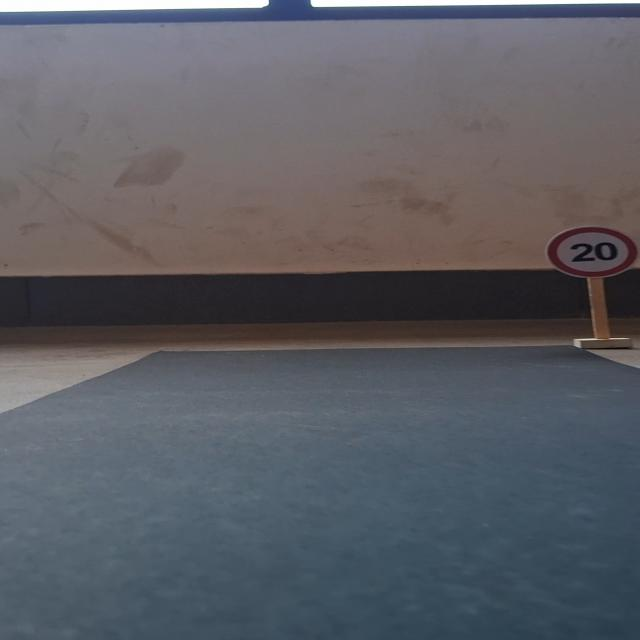Speed20: (537, 223, 640, 281)
